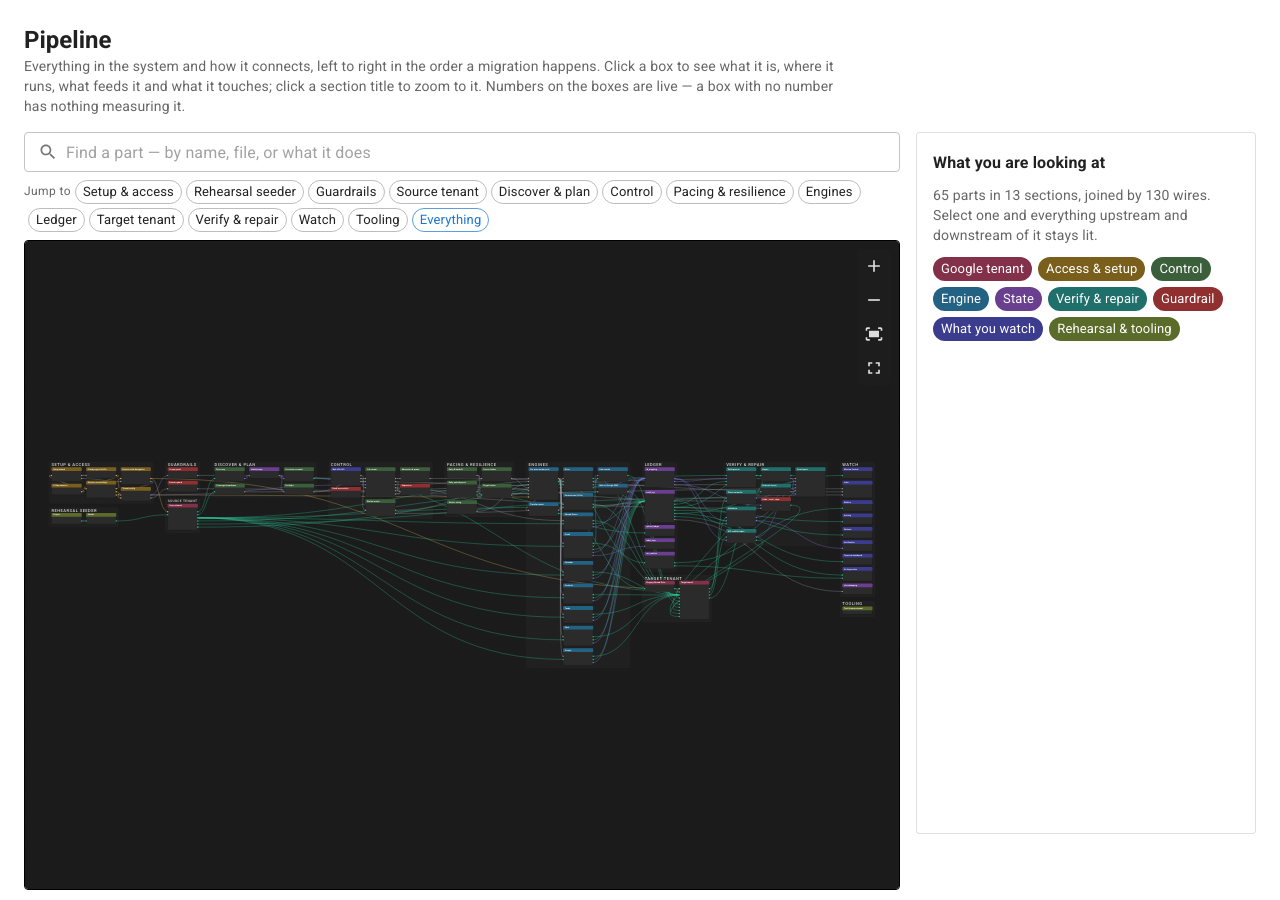
Scenario: Pipeline › finding a part › matches by name, by file and by what it does, and counts the matches
Type "resilience.py" into the field with test id "pipeline-search".
click(483, 152); type("resilience.py")  # box [66,132,900,172]
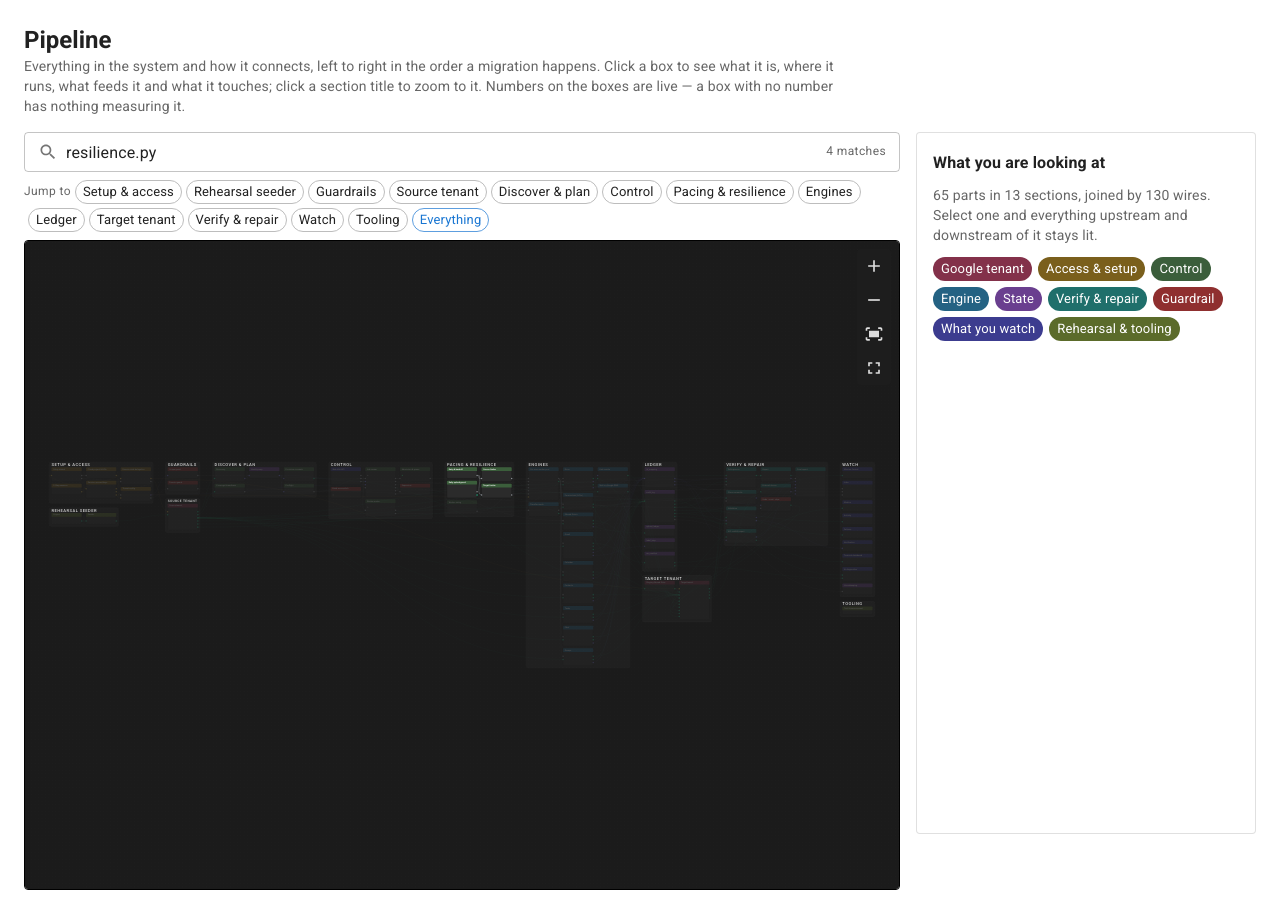
Now the text with test id "pipeline-matches" reads "4 matches", box [826,142,886,162]
Replace the text in the field with test id "pipeline-search" with "3/sec/account" at (442, 152), box [66,132,818,172]
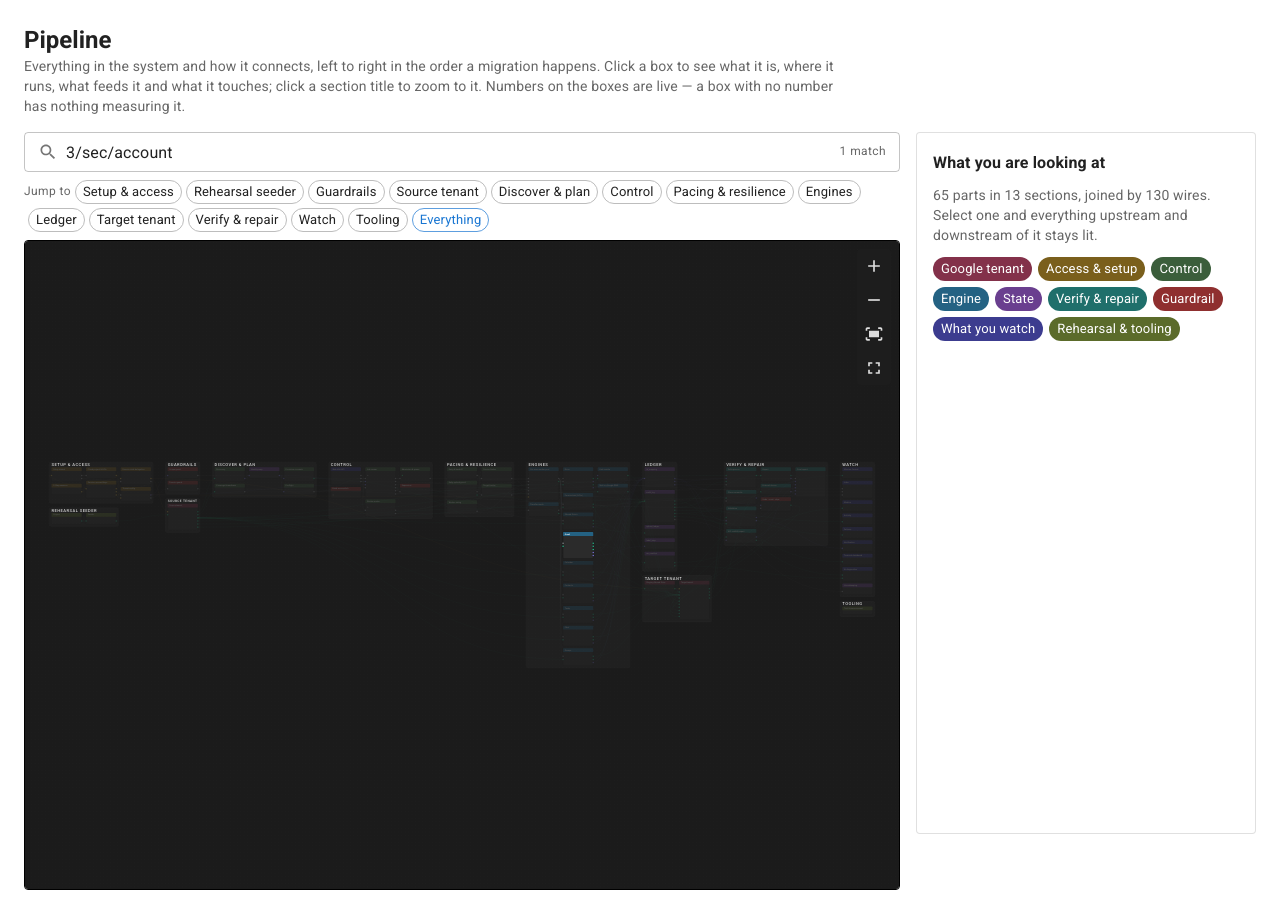
Now the text with test id "pipeline-matches" reads "1 match", box [840,142,886,162]
